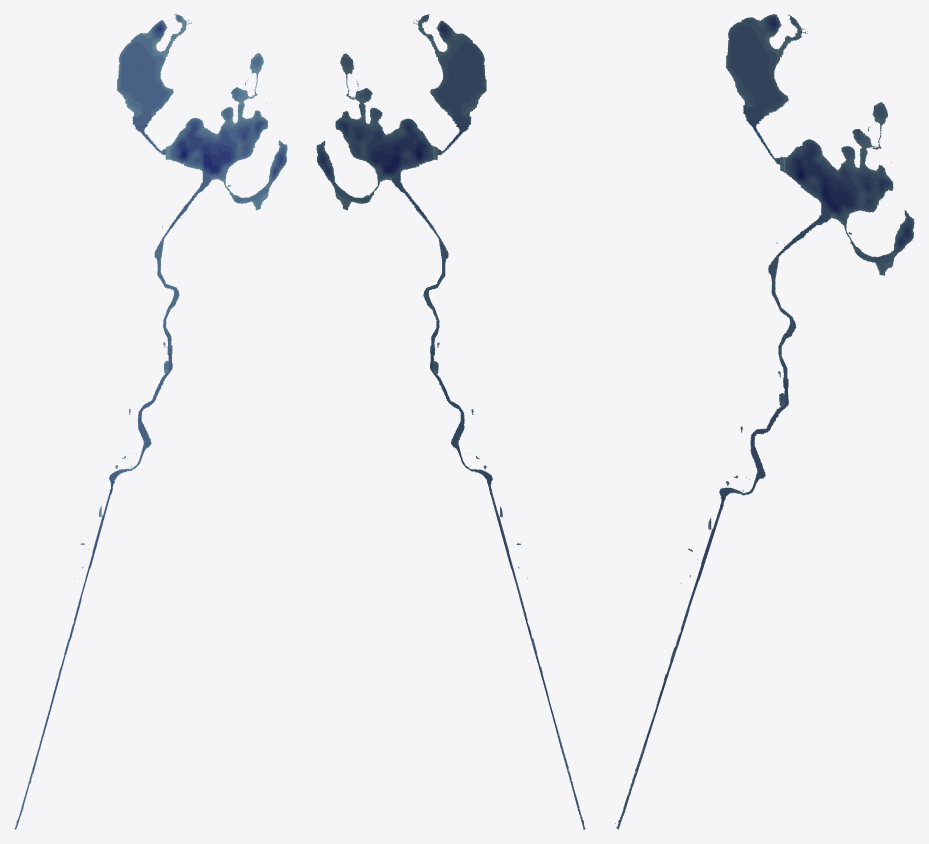
Rendered from triangle_mesh.glb.
The picture shows the model from 3 angles, left to right: view 1: azimuth 30°, elevation 25°; view 2: azimuth 150°, elevation 25°; view 3: azimuth 330°, elevation 25°; orthographic projection. The views are drawn at different scales.
Visible parts, largest first — view 1: world; view 2: world; view 3: world.
Part boxes in pixels (<box>): world: <box>14,14,287,829</box>; world: <box>316,14,585,829</box>; world: <box>615,14,914,829</box>.
Size of the model in its own units: 1003 by 2736 by 13.71.
